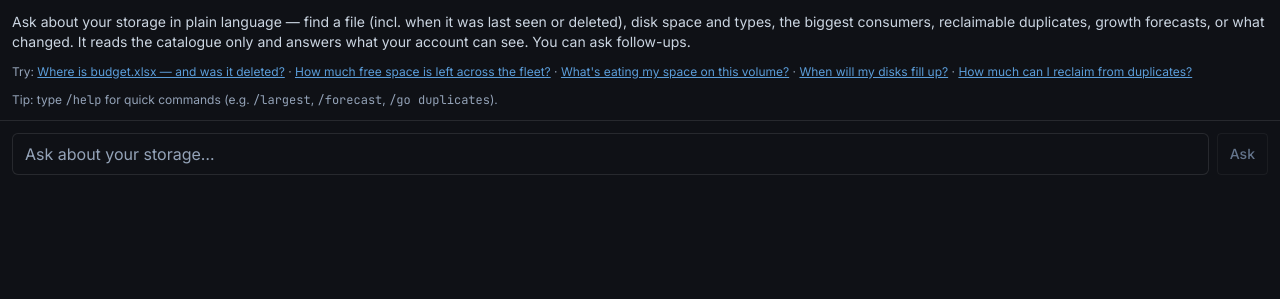
asks the API with the page context and renders the answer + citation
The width and height of the screenshot is (1280, 299).
In the field named "your question": point(610, 154) [12,133,1209,175], type "where is report.pdf?"
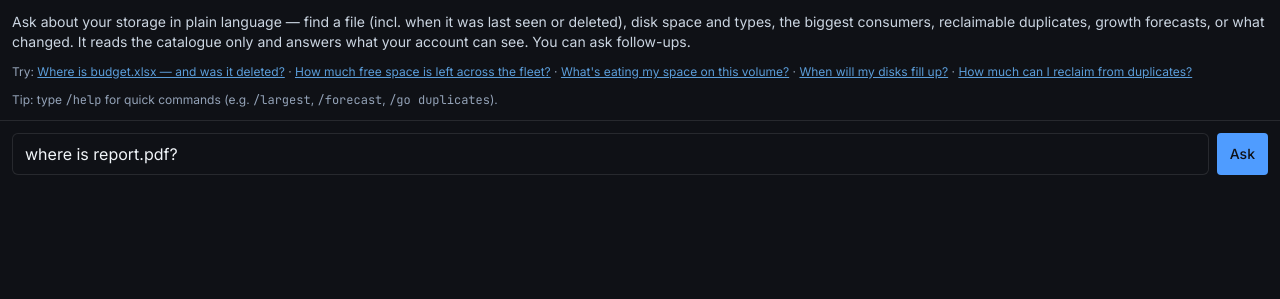
Click the button "Ask": point(1242, 154) [1217,133,1268,175]
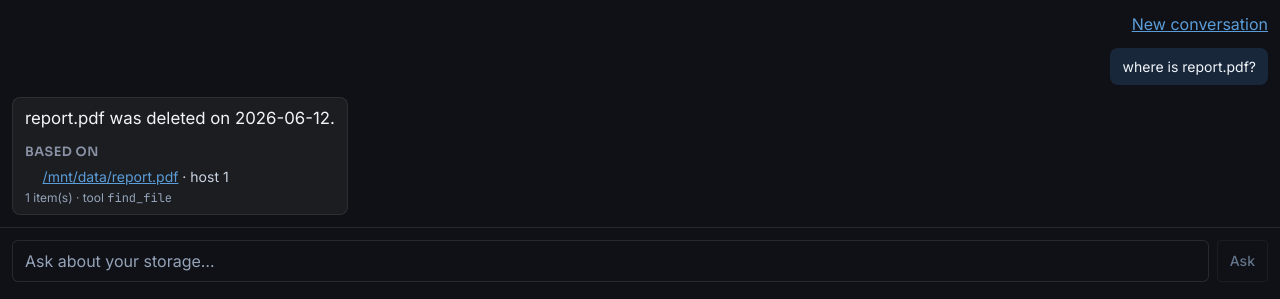
Expected: the text "report.pdf was deleted on 2026-06-12." is shown, [25,106,335,131]
Expected: the button "/mnt/data/report.pdf" is shown, [43,166,178,187]
